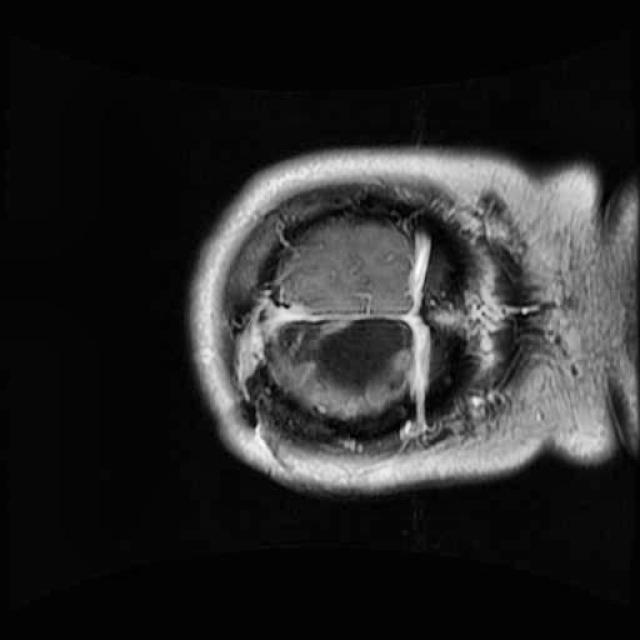Non-Tumor: (280, 304, 428, 421)
